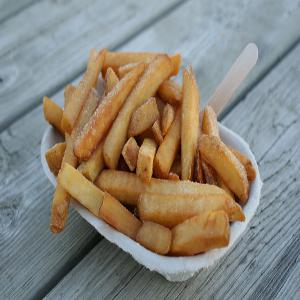fries: (33, 50, 252, 266)
